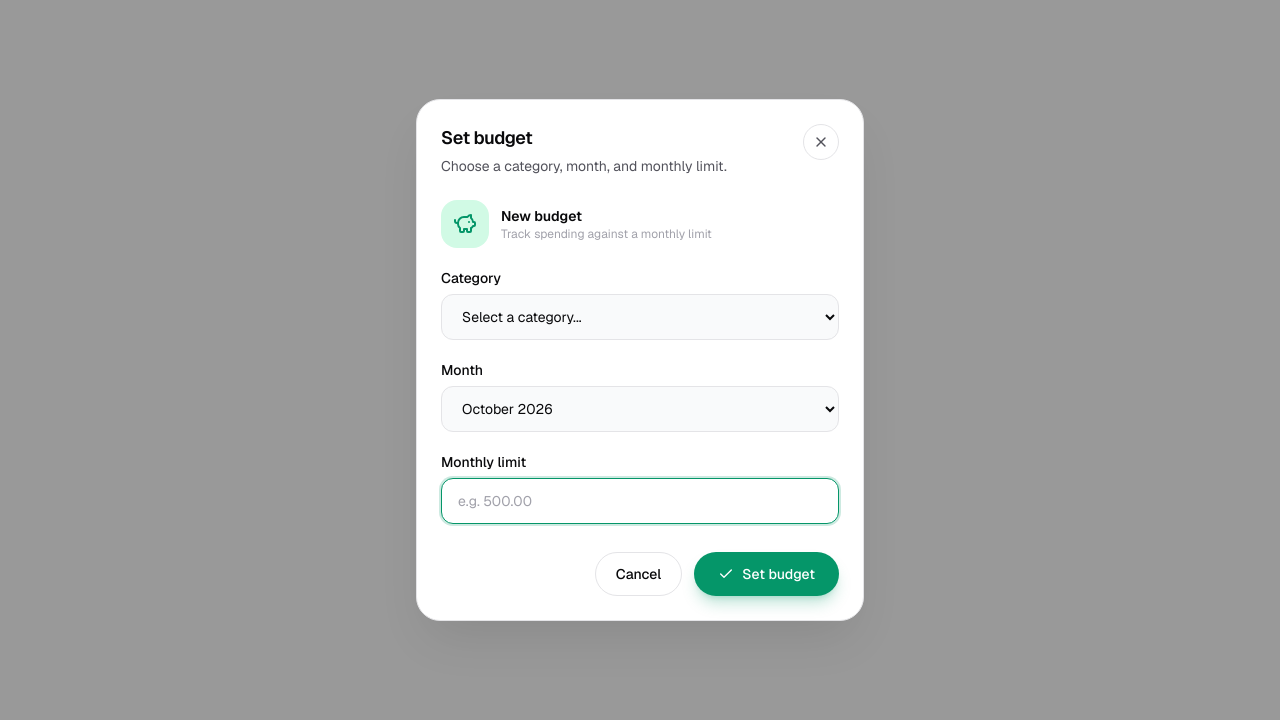
BudgetFormModal › setting a budget › shows the failure when the save does not go through
The image size is (1280, 720).
Select "Food & dining" in the dropdown labelled "Category". click: coordinates (640, 317)
box: [441,294,839,340]
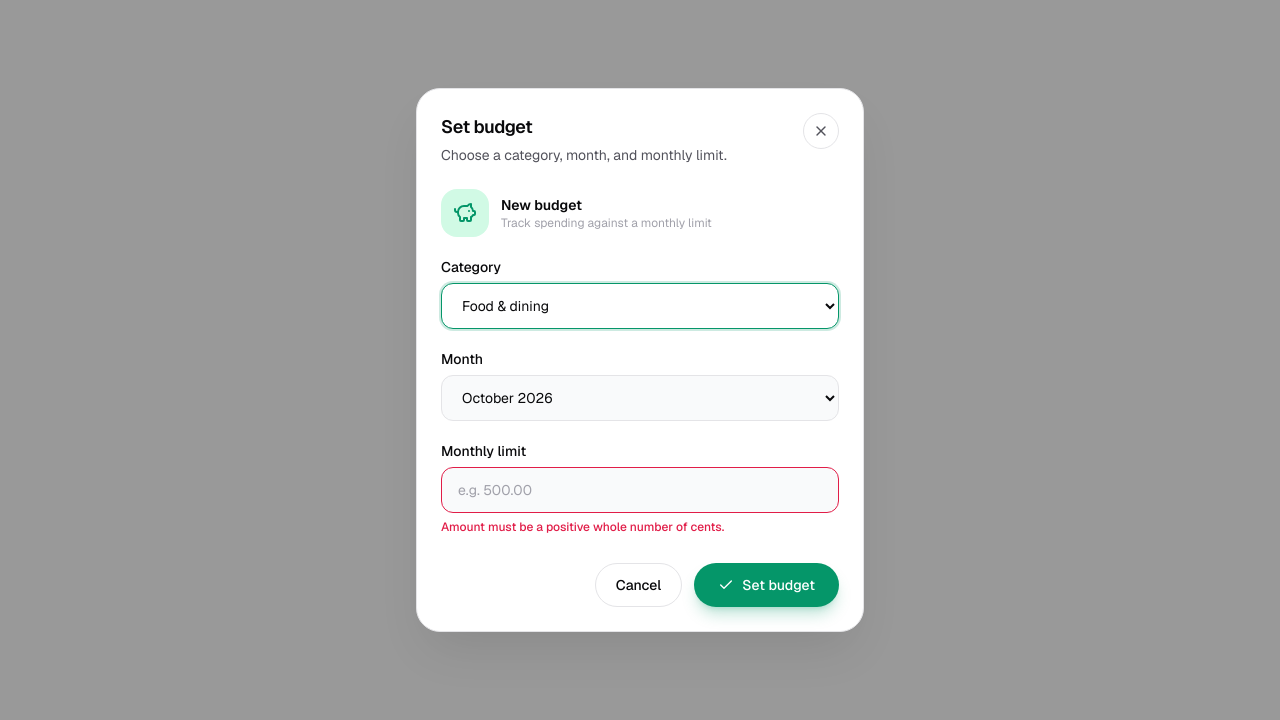
Type "500" into the field labelled "Monthly limit". click: coordinates (640, 490)
box: [441,467,839,513]
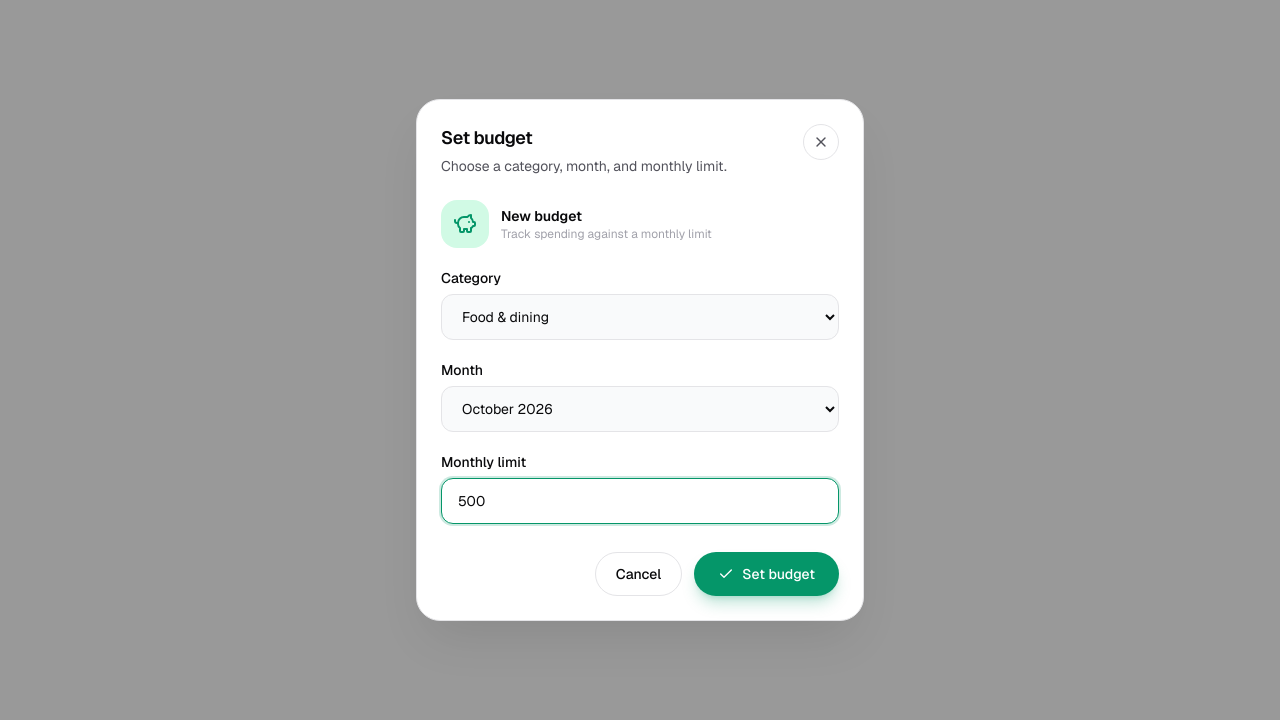
Click the button "Set budget". click: coordinates (767, 574)
box: [694,552,839,596]
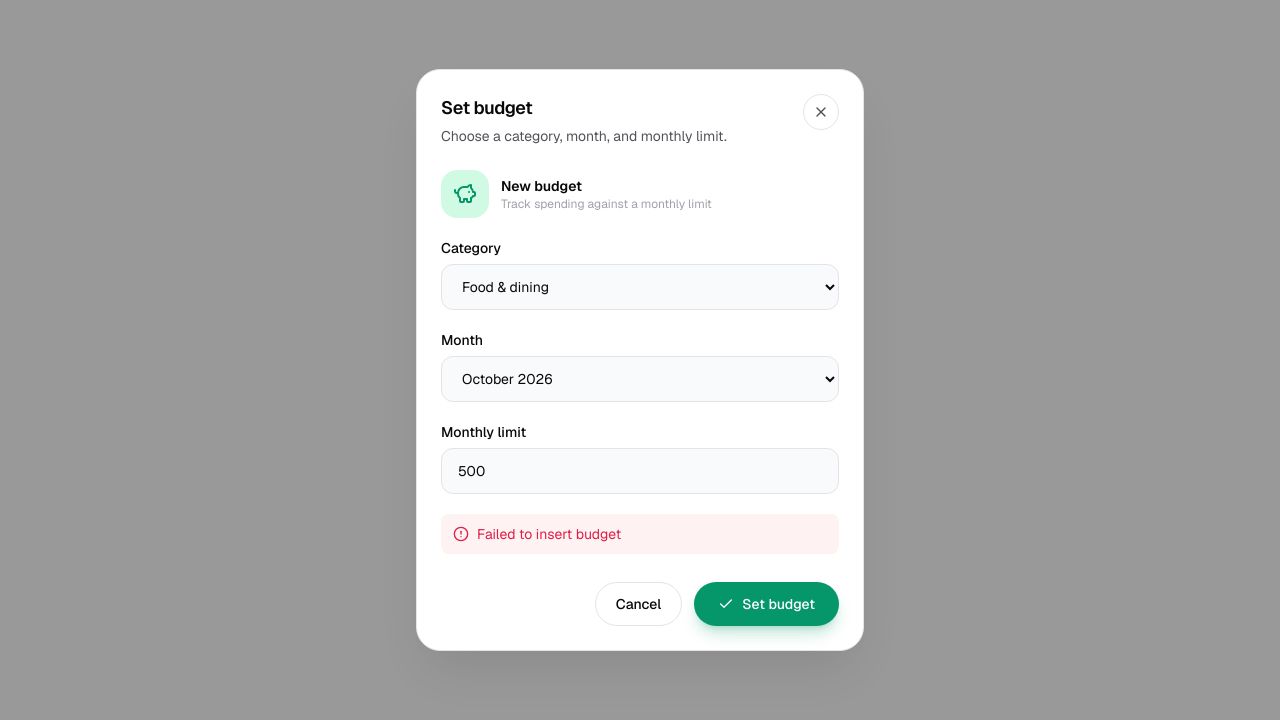
Check: the text "Failed to insert budget" is shown, box [441,514,839,554]
